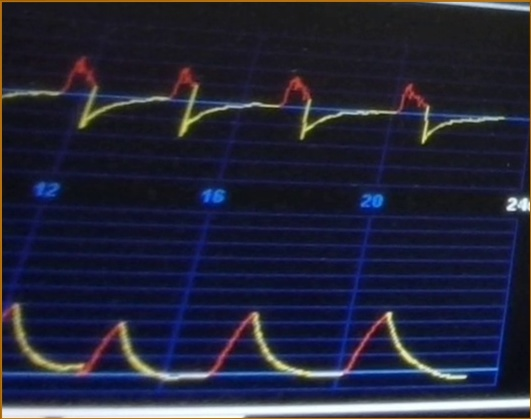Accumulation Flow: (3, 47, 508, 152)
Volume: (4, 284, 468, 387)
